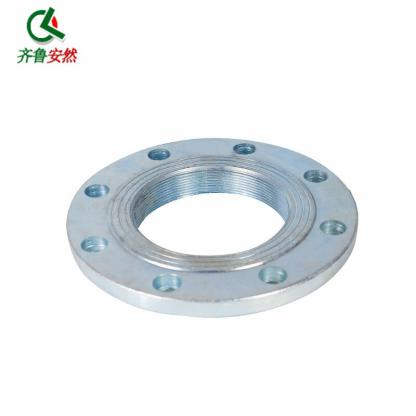FOD: (48, 131, 361, 319)
